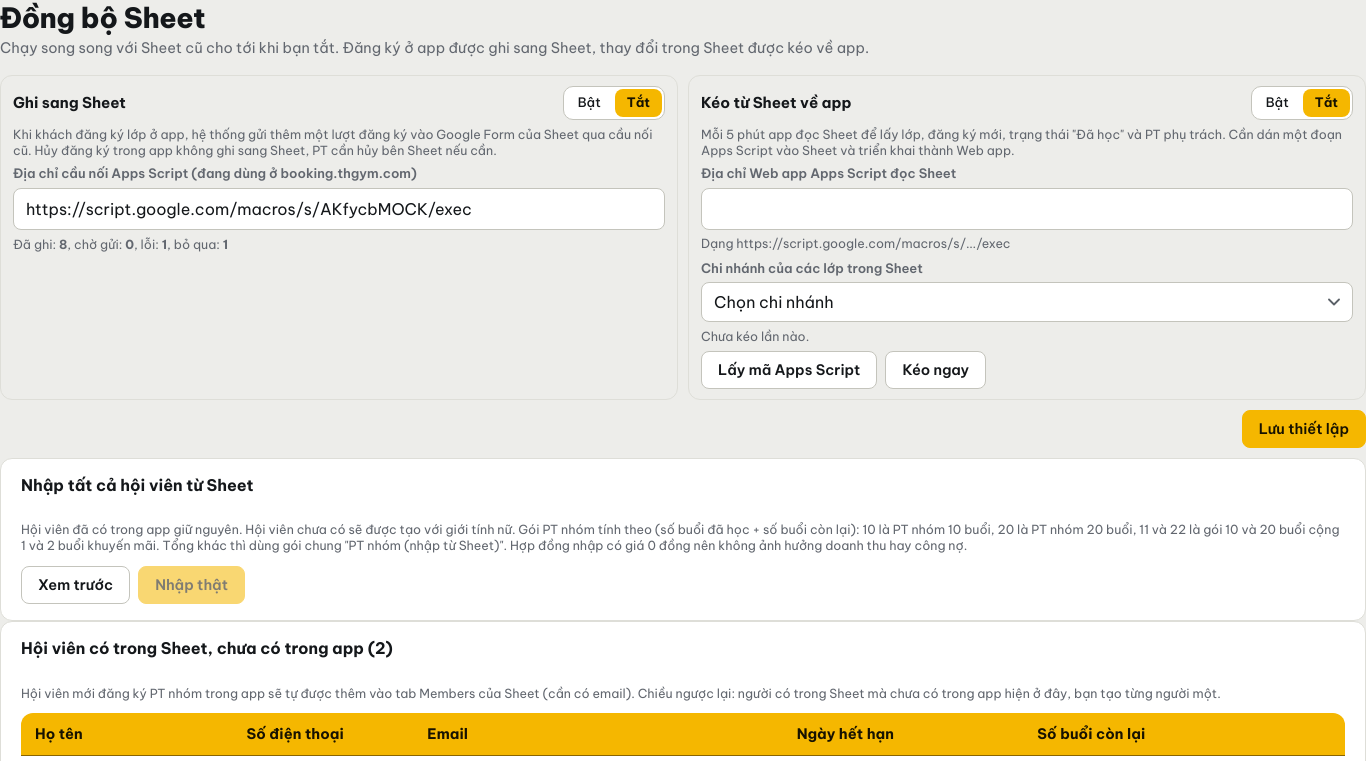
Test case: sheet sync page › refuses to turn the pull on without a URL and asks before switching off
Expected: the element named "Bật hoặc tắt kéo từ Sheet" is shown, [1251,86,1353,120]
Click the button "Bật" in the row of "Kéo từ Sheet về app" at (1277, 103), box [1254,89,1301,117]
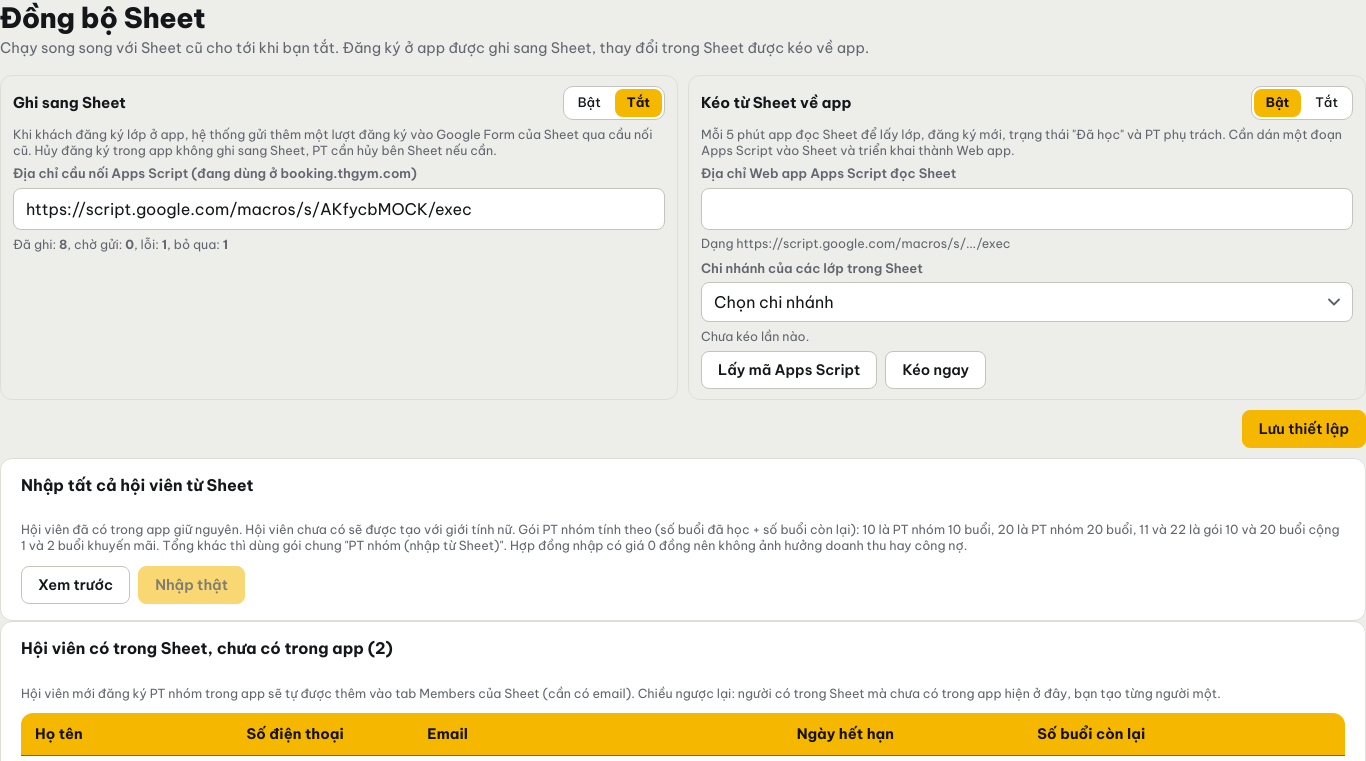
Click the button "Lưu thiết lập" at (1304, 429), box [1242,410,1365,448]
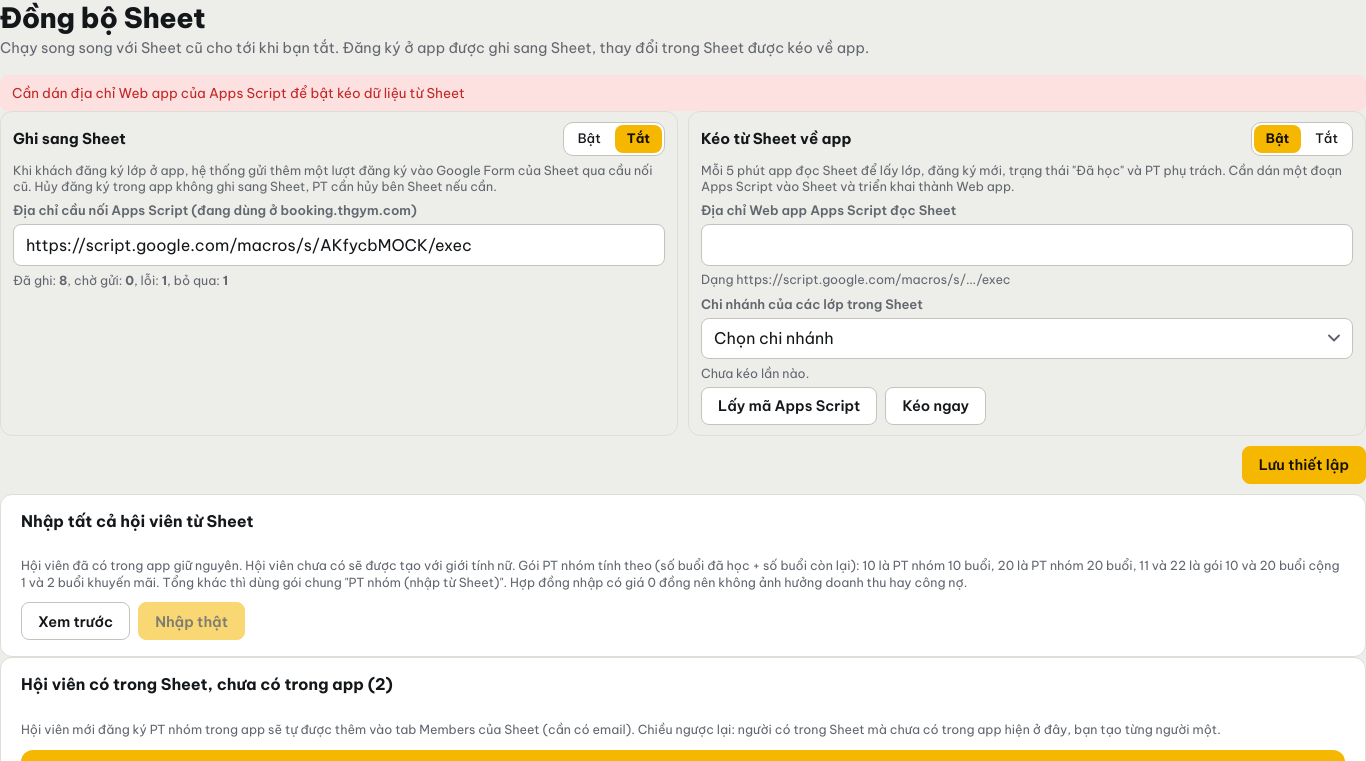
Expected: the message shows "Cần dán địa chỉ Web app", [12,84,465,102]
Type "https://script.google.com/macros/s/AKfycbX/exec" into the field labelled "Địa chỉ Web app Apps Script đọc Sheet" at (1027, 245), box [701,224,1353,266]
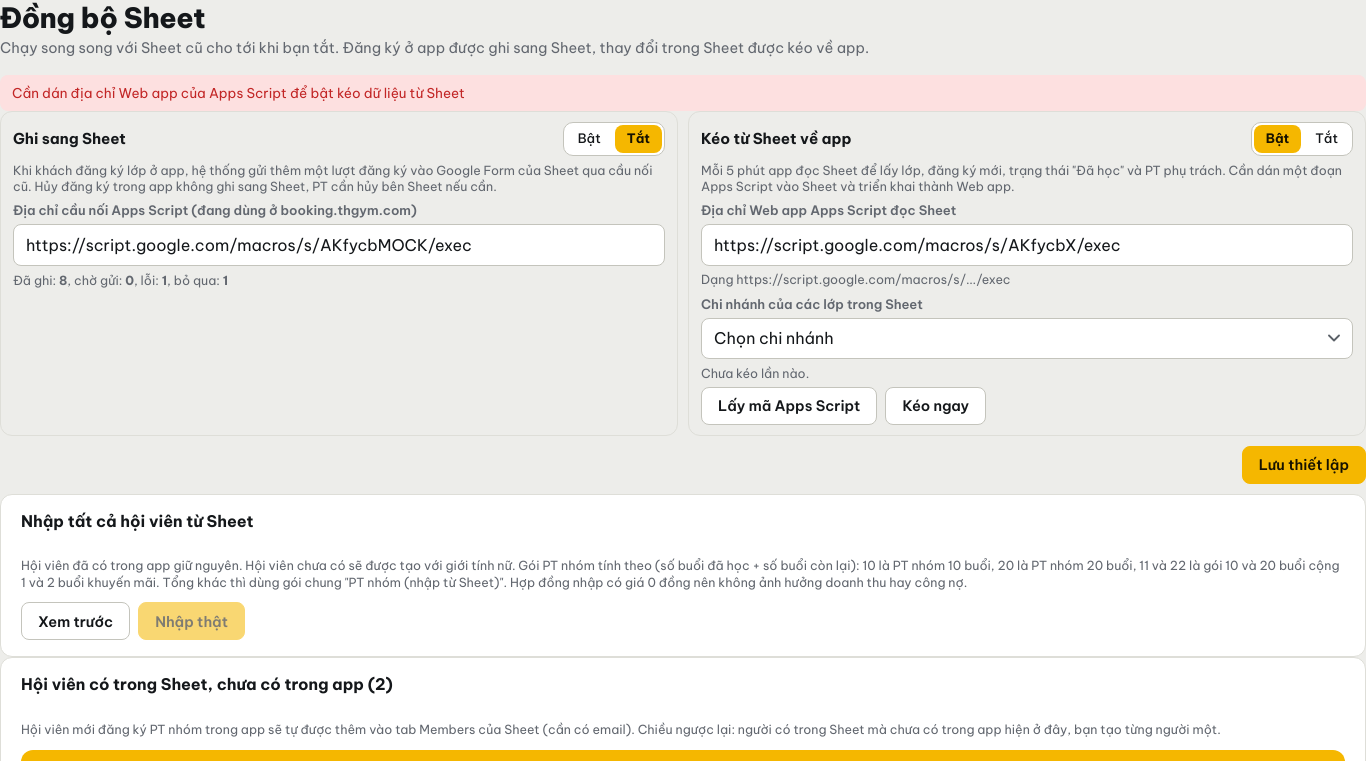
Click the button "Lưu thiết lập" at (1304, 465), box [1242,446,1365,484]
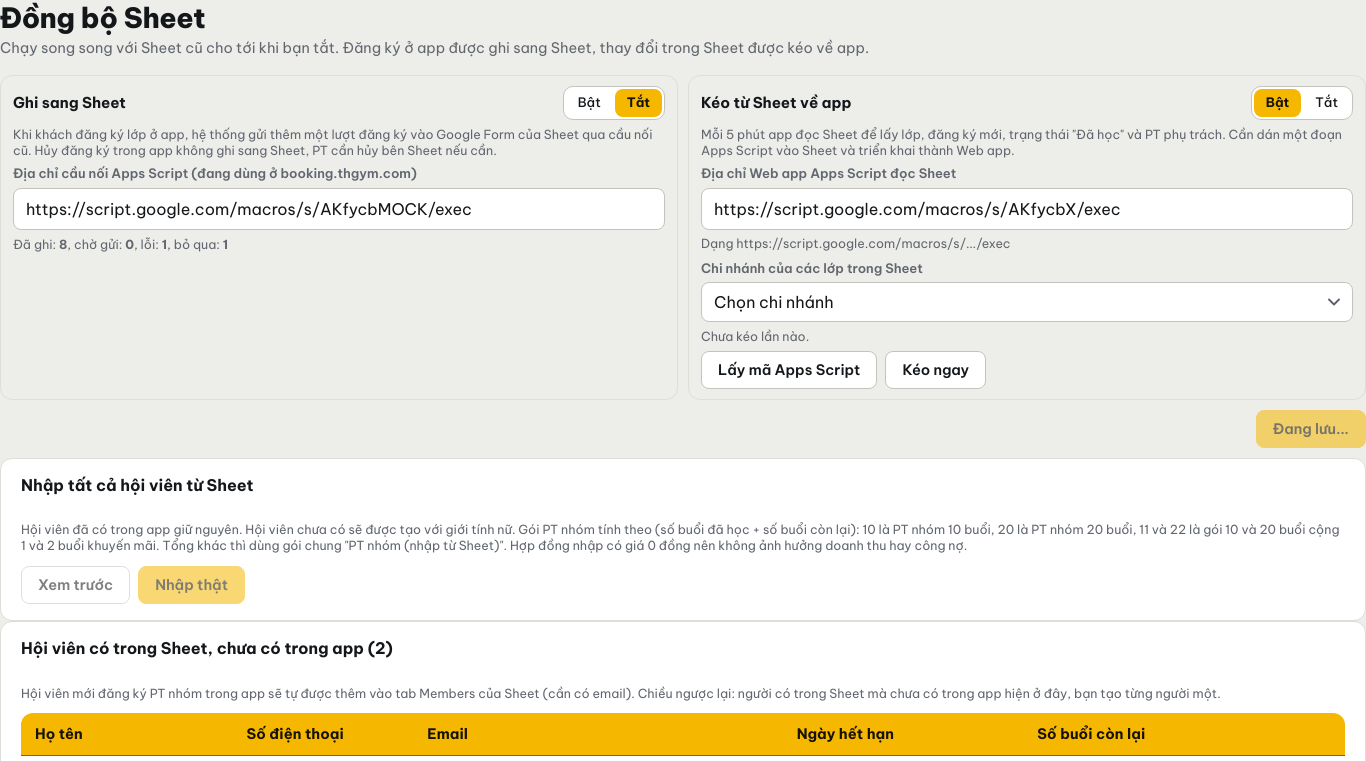
Expected: the message "Cần dán địa chỉ Web app của Apps Script để bật kéo dữ liệu từ Sheet" is gone
Click the button "Tắt" in the row of "Kéo từ Sheet về app" at (1327, 103), box [1303,89,1350,117]
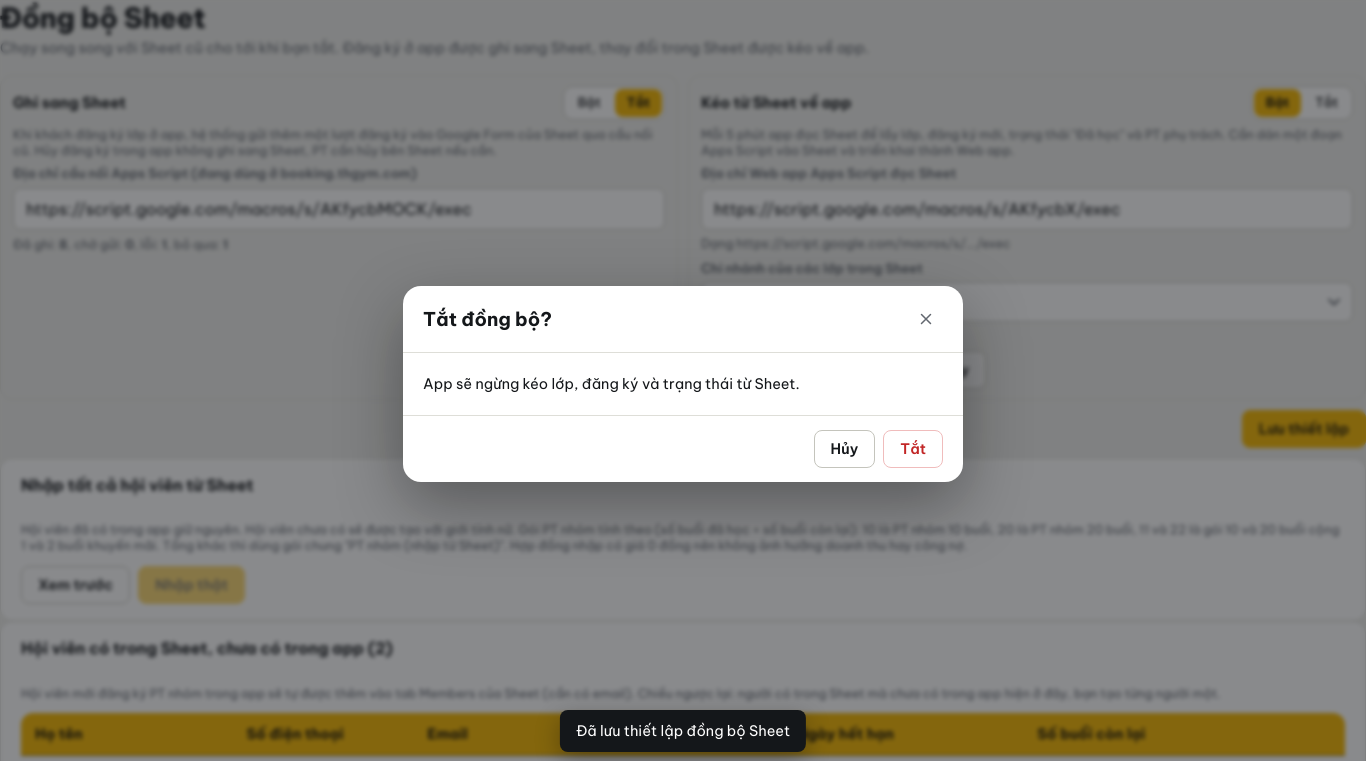
Expected: the heading "Tắt đồng bộ?" is shown, [423,305,552,333]
